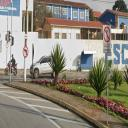NoSeguir: (103, 26, 110, 43)
